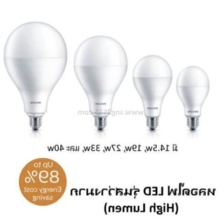light_bulb: (0, 18, 69, 131), (70, 28, 129, 133), (131, 49, 174, 131), (173, 60, 215, 134)
